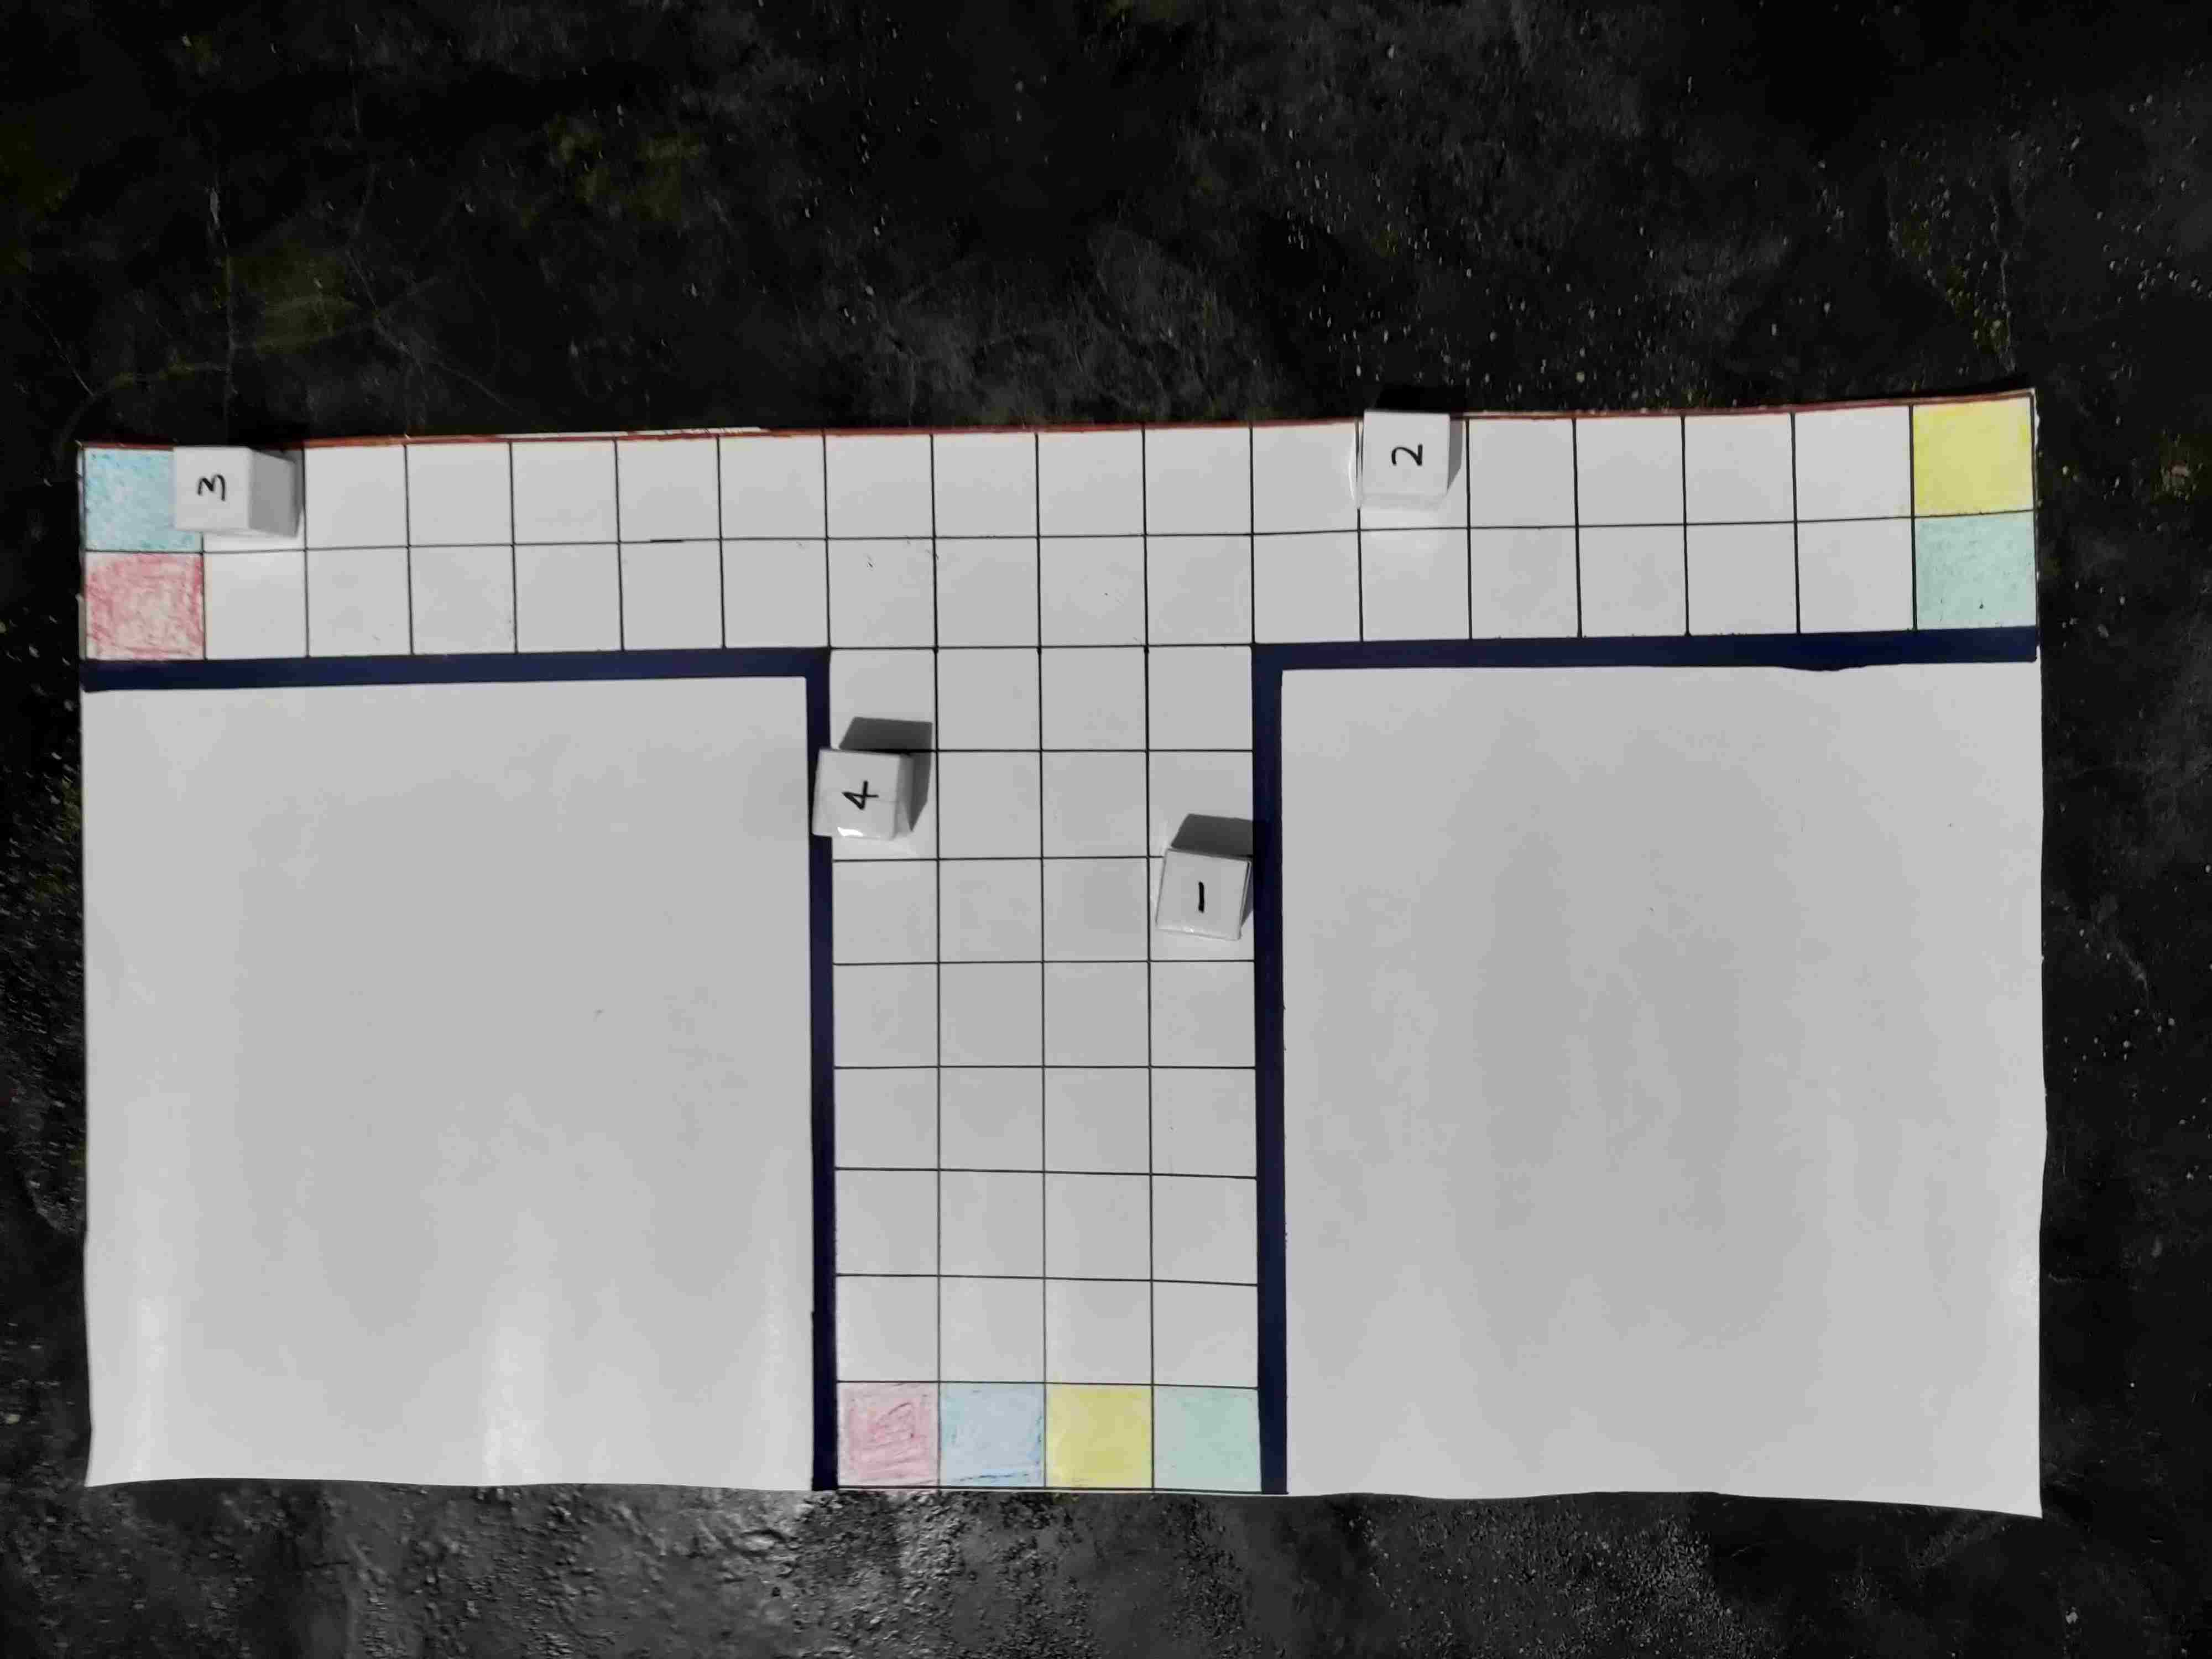arena: (77, 382, 2050, 1509)
bot: (1155, 850, 1249, 934), (169, 443, 256, 532), (1366, 406, 1449, 495), (812, 748, 895, 835)
